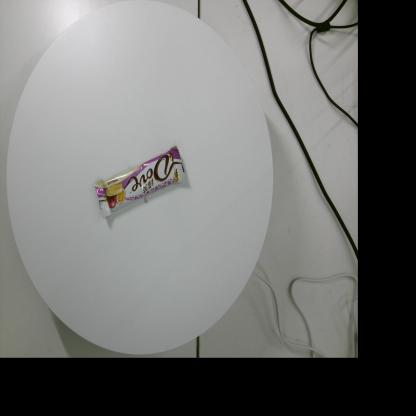Chocolate: (93, 146, 187, 218)
